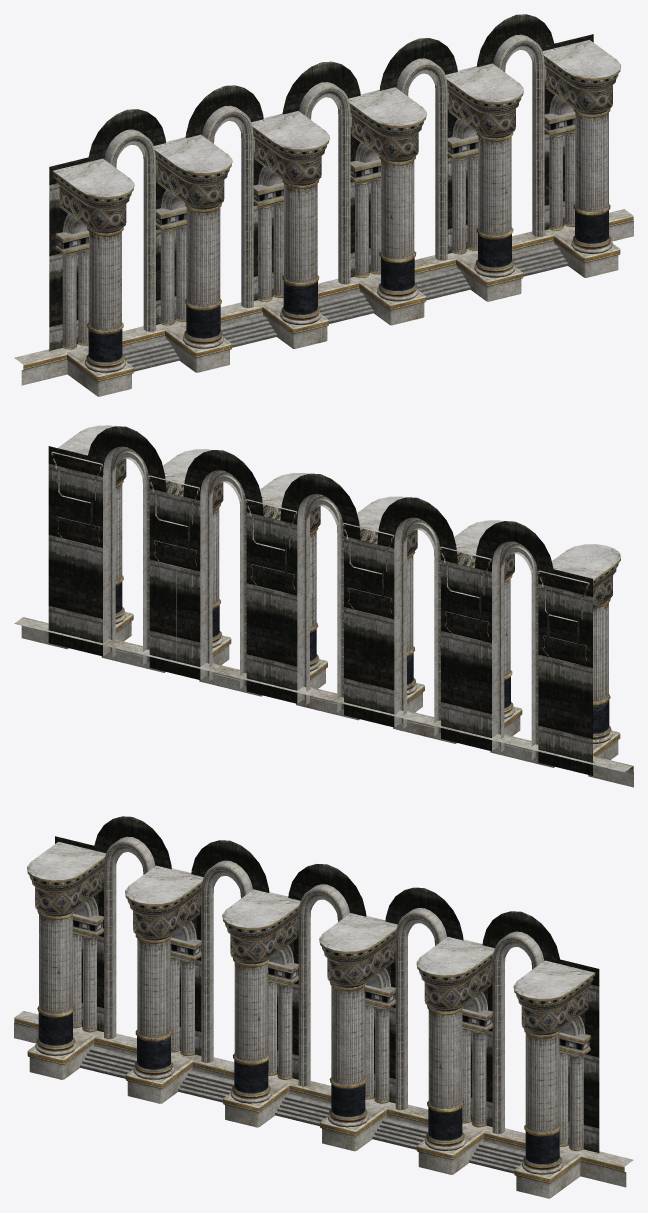
Rendered from KnightCastle_DockRoom_Pillar01.FBX.
3 views of the same model, one above another, from view 1: azimuth 30°, elevation 25°; view 2: azimuth 150°, elevation 25°; view 3: azimuth 330°, elevation 25° (orthographic).
Parts seen in each view (by area): view 1: SM_KnightCastle_DockRoom_Pillar01; view 2: SM_KnightCastle_DockRoom_Pillar01; view 3: SM_KnightCastle_DockRoom_Pillar01.
Boxes of the visible parts, x1=… form: SM_KnightCastle_DockRoom_Pillar01: x1=14, y1=14, x2=633, y2=396; SM_KnightCastle_DockRoom_Pillar01: x1=14, y1=425, x2=633, y2=787; SM_KnightCastle_DockRoom_Pillar01: x1=14, y1=816, x2=633, y2=1198.
Size of what is drawn, in the model's own units: 3106 by 390 by 1181.
